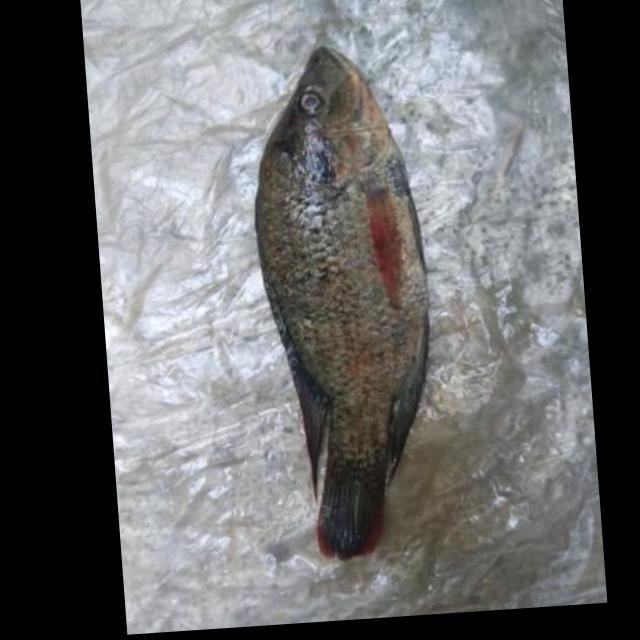Tilapia: (241, 41, 451, 564)
